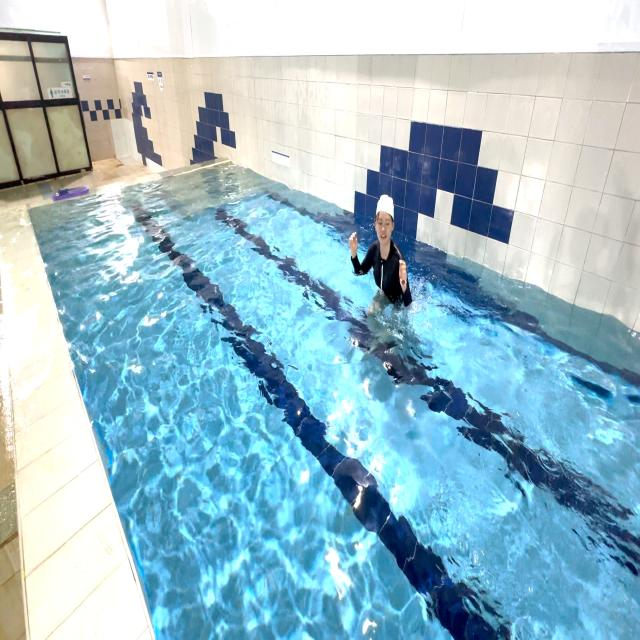Swimming: (344, 183, 418, 314)
